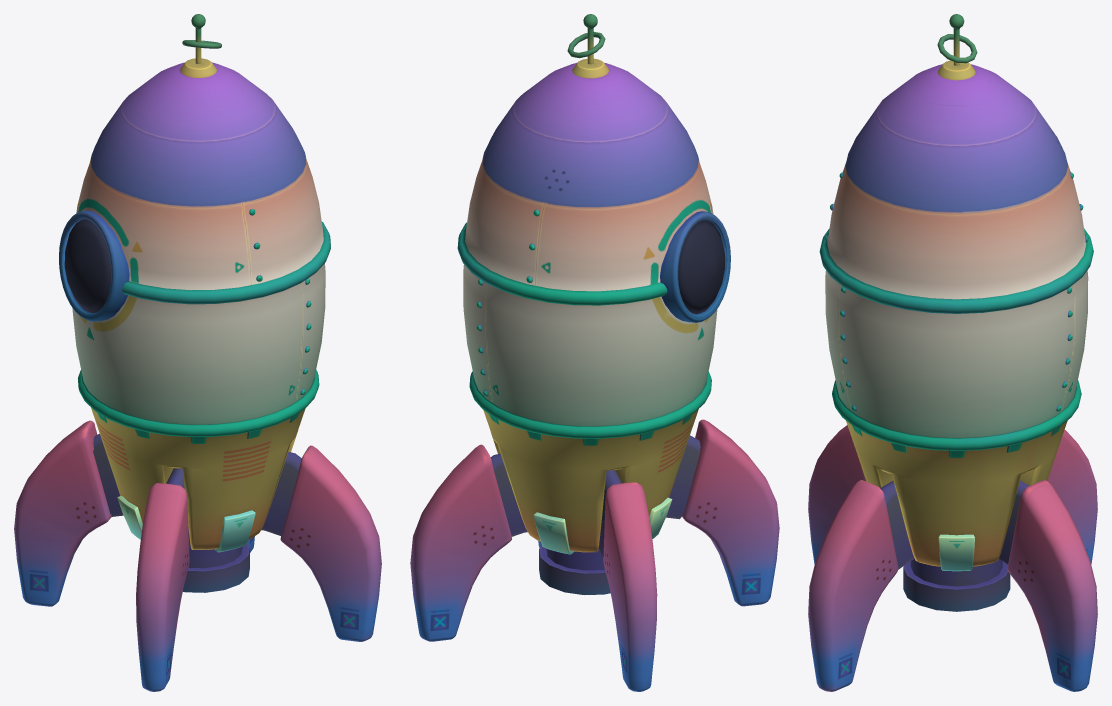
File: rokek_basic_ingame_edit.fbx
3 views of the same model, side by side, from view 1: azimuth 30°, elevation 25°; view 2: azimuth 150°, elevation 25°; view 3: azimuth 270°, elevation 25° (orthographic). The views are drawn at different scales.
Parts seen in each view (by area): view 1: roket1_low.003, roket3_low, roket2_low, roket4_low; view 2: roket1_low.003, roket3_low, roket2_low, roket4_low; view 3: roket1_low.003, roket3_low, roket4_low, roket2_low.
Boxes of the visible parts, box(x1,y1,x2,y2) form: roket1_low.003: box(72, 62, 330, 549); roket3_low: box(14, 40, 381, 691); roket2_low: box(59, 14, 311, 547); roket4_low: box(183, 543, 249, 592); roket1_low.003: box(457, 63, 717, 552); roket3_low: box(410, 32, 779, 691); roket2_low: box(477, 14, 730, 557); roket4_low: box(539, 545, 610, 594); roket1_low.003: box(819, 64, 1093, 566); roket3_low: box(808, 34, 1097, 691); roket4_low: box(903, 559, 1010, 611); roket2_low: box(825, 14, 1088, 569).
Bounding box in the file's own units: 347 × 824 × 347.
